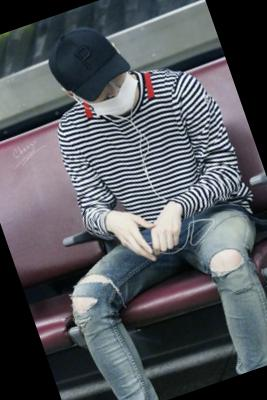mask_weared_incorrect: (78, 69, 149, 127)
